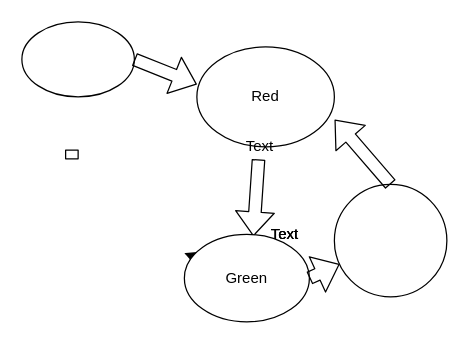
Some shapes in this 469 by 344 pixel diagram are drawn without their labels. Each missing label, with the centre of its shape:
"Orange" goes at point (390, 240).
"start" goes at point (77, 59).
